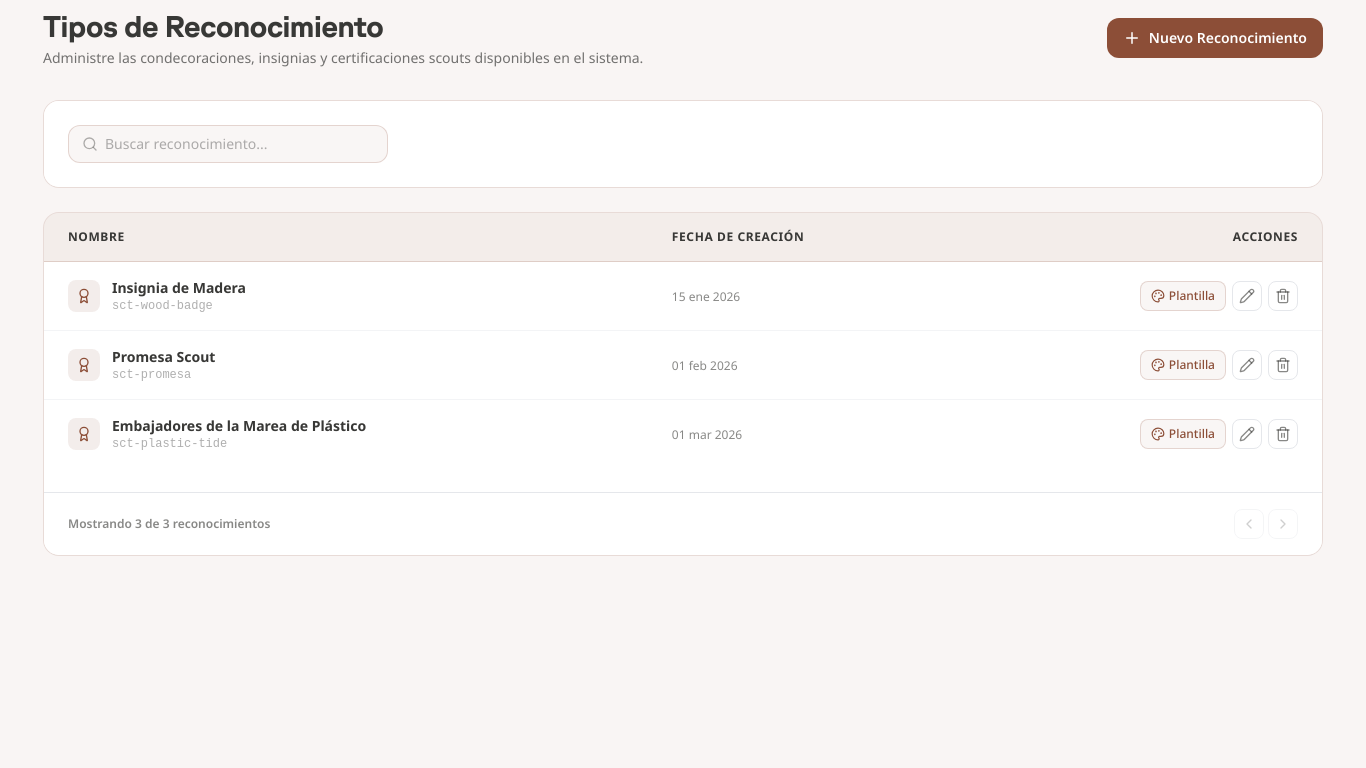
RecognitionCatalog component › filters recognitions by global search input
Expected: the text "Insignia de Madera" is shown, [112, 278, 246, 298]
Step 1. Type "Madera" into the field with placeholder "Buscar reconocimiento..." → (228, 144), box [68, 125, 388, 163]
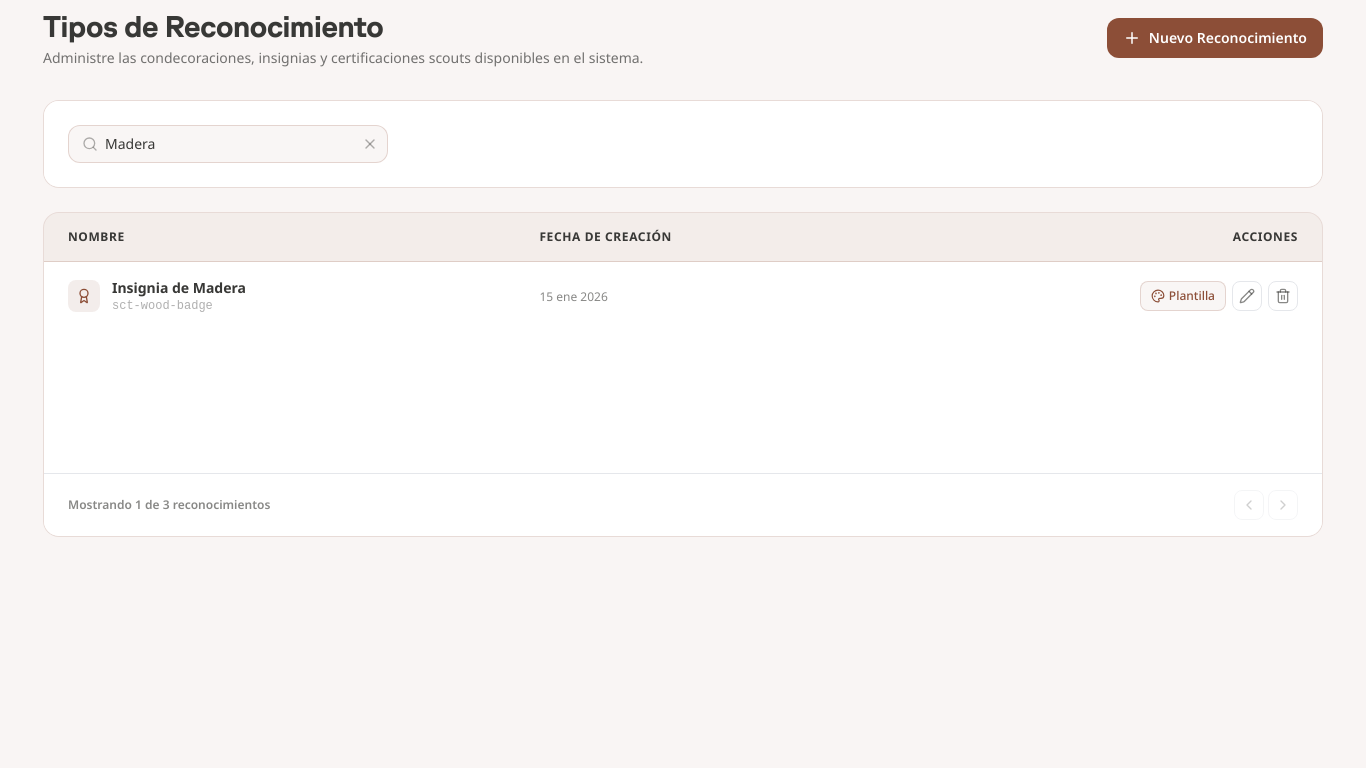
Expected: the text "Insignia de Madera" is shown, [112, 278, 246, 298]
Result: the text "Promesa Scout" is gone
Result: the text "Embajadores de la Marea de Plástico" is gone
Clear search
Step 2. Click the button named "Limpiar búsqueda" → (370, 144), box [362, 136, 378, 152]
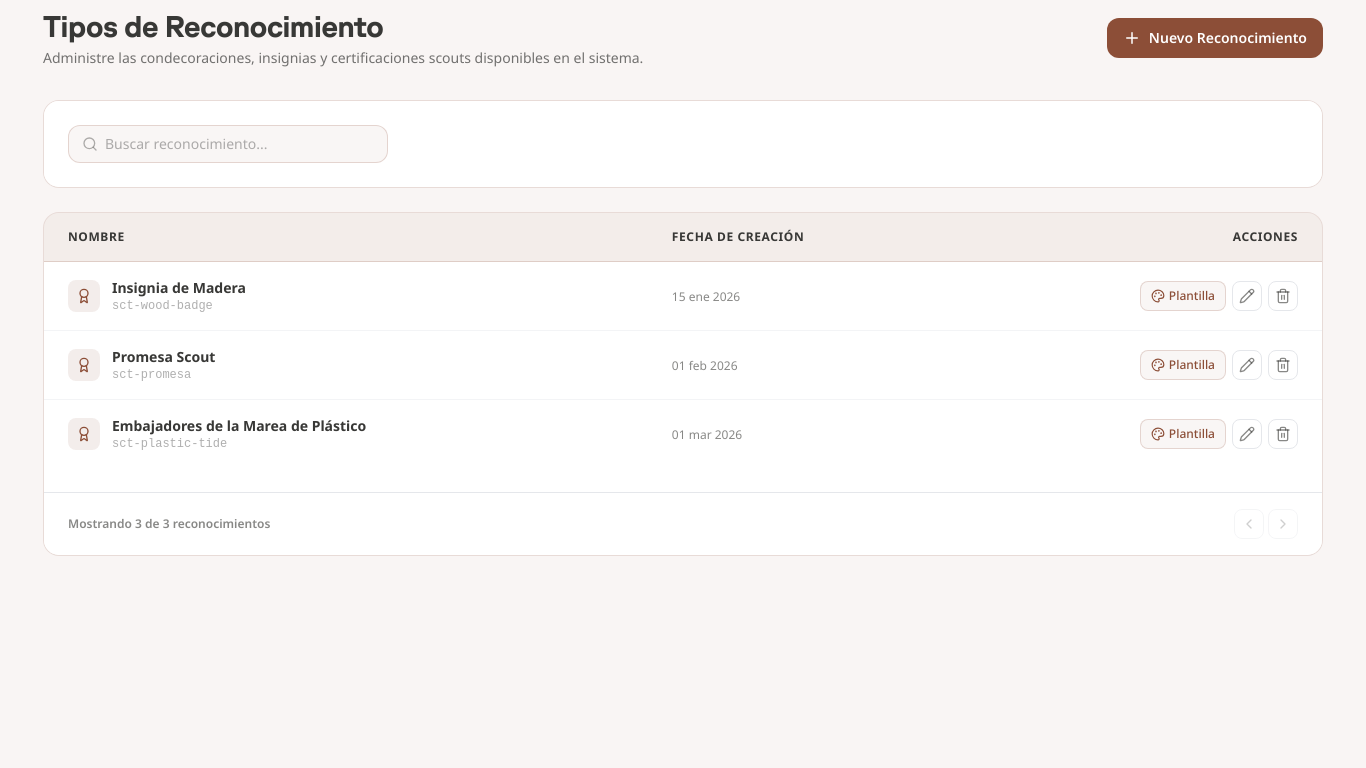
Expected: the text "Insignia de Madera" is shown, [112, 278, 246, 298]
Result: the text "Promesa Scout" is shown at [112, 347, 215, 367]
